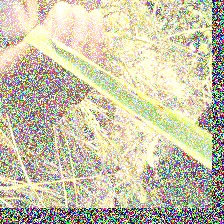Bacterial_Leaf_Blight: (116, 83, 143, 95), (94, 64, 108, 76), (156, 101, 167, 110)
